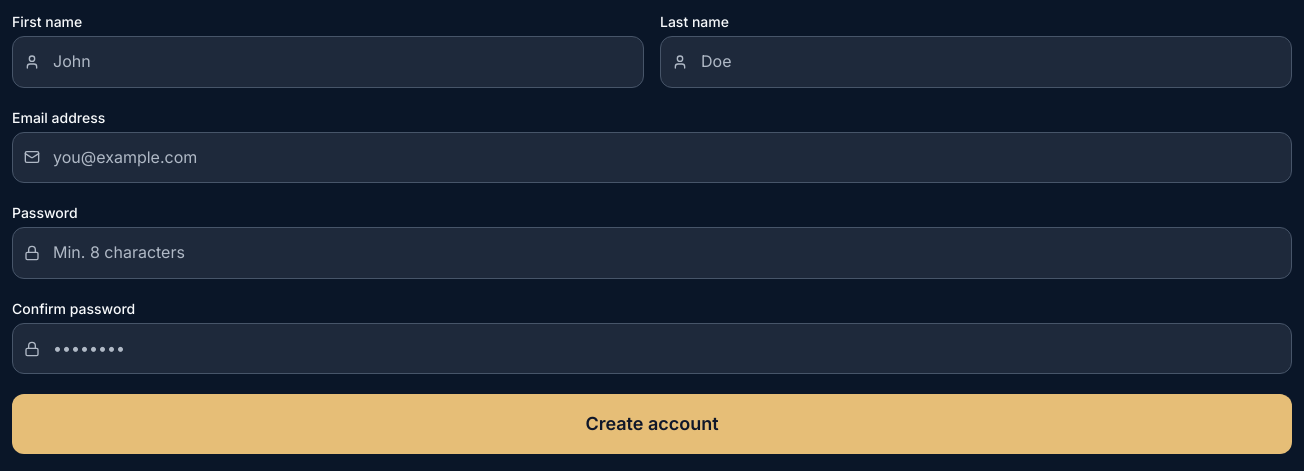
Test: RegisterForm › disables the submit button and shows spinner while submitting
This screenshot has width=1304, height=471.
Type "Kevin" into the field labelled "First name".
click(328, 62); type("Kevin")  # box [12,36,644,88]
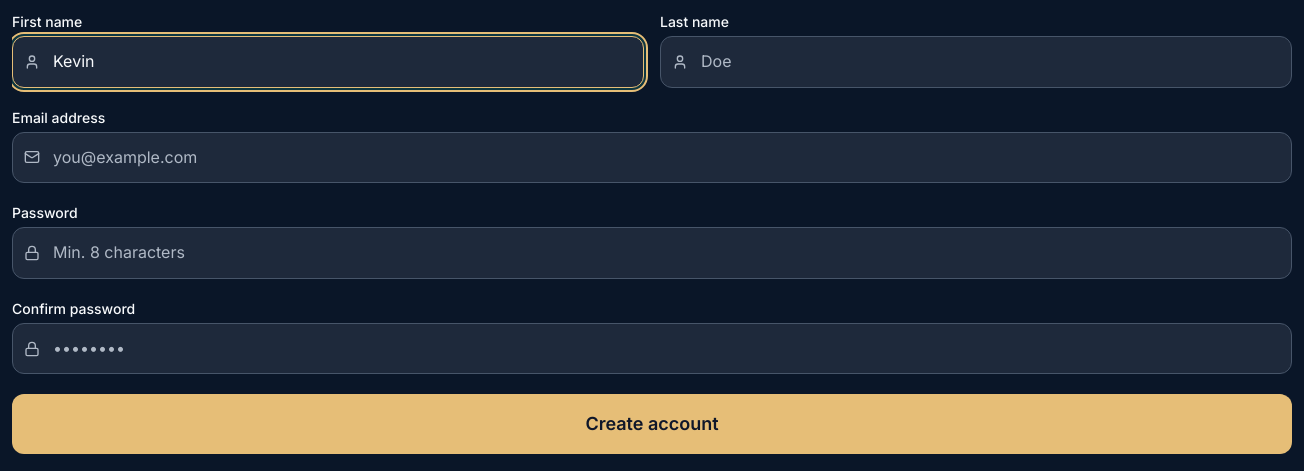
Type "Mahendra" into the field labelled "Last name".
click(976, 62); type("Mahendra")  # box [660,36,1292,88]
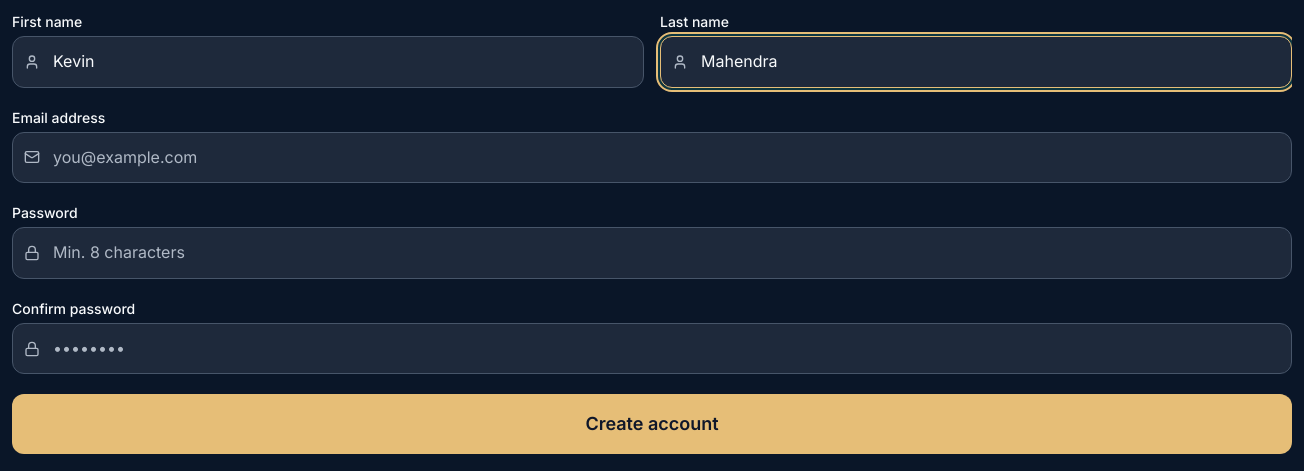
Type "kevin@example.com" into the field labelled "Email address".
click(652, 157); type("kevin@example.com")  # box [12,132,1292,183]
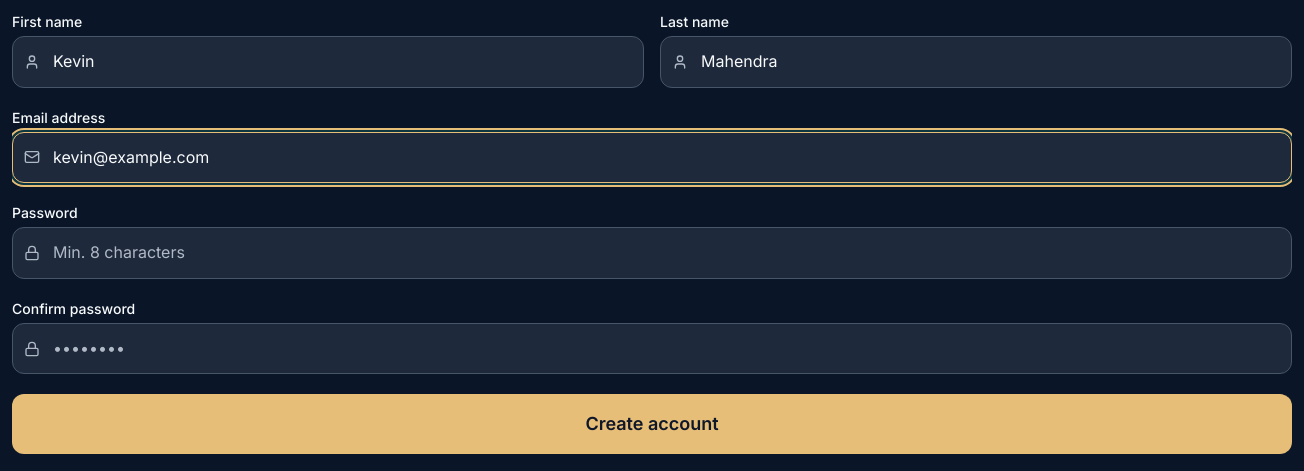
Type "StrongPass123!" into the password field labelled "Password".
click(652, 253); type("StrongPass123!")  # box [12,227,1292,279]
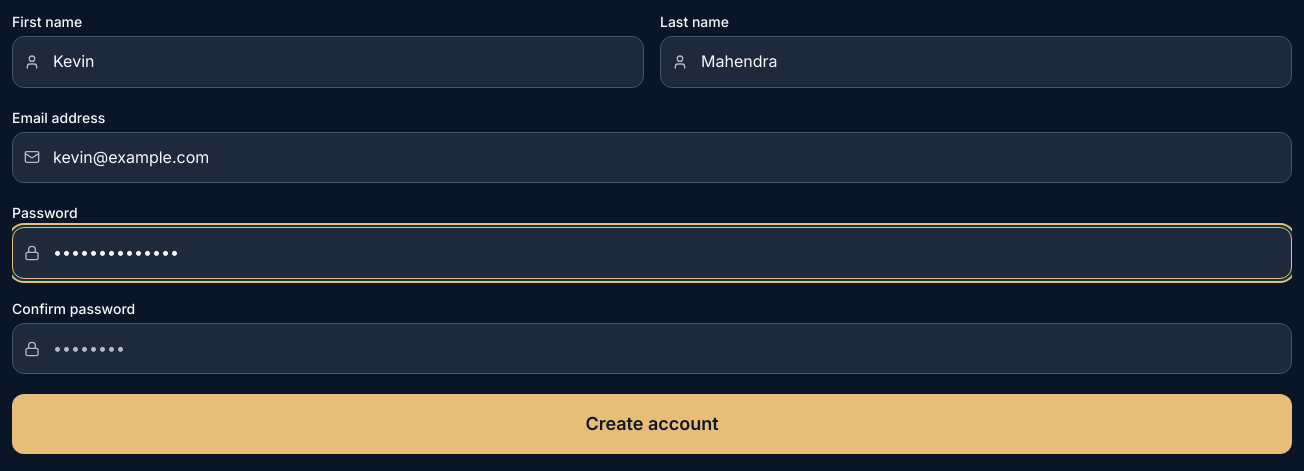
Type "StrongPass123!" into the password field labelled "Confirm password".
click(652, 349); type("StrongPass123!")  # box [12,323,1292,374]
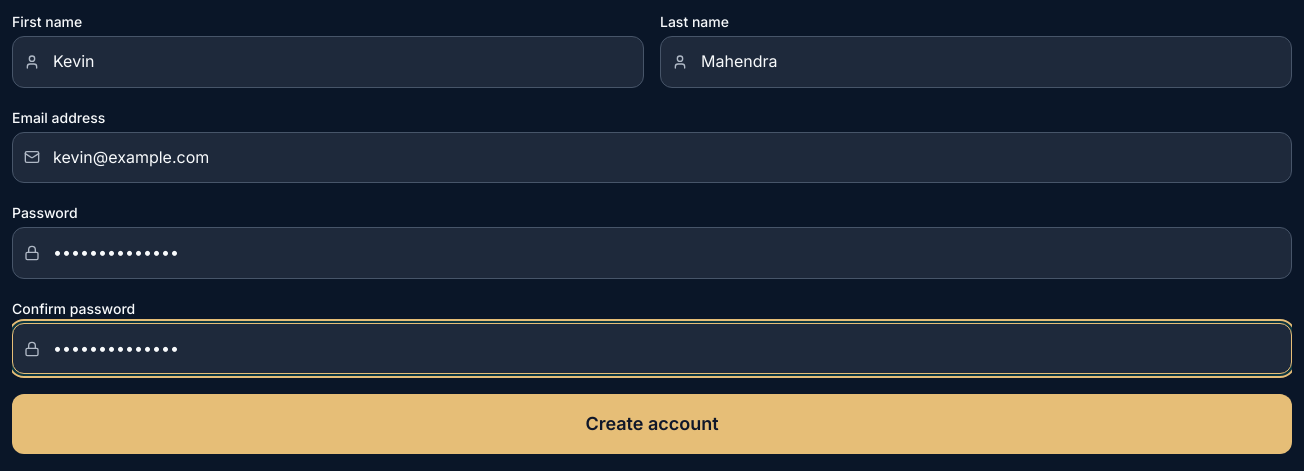
Click the button "Create account".
click(652, 424)  # box [12,394,1292,454]
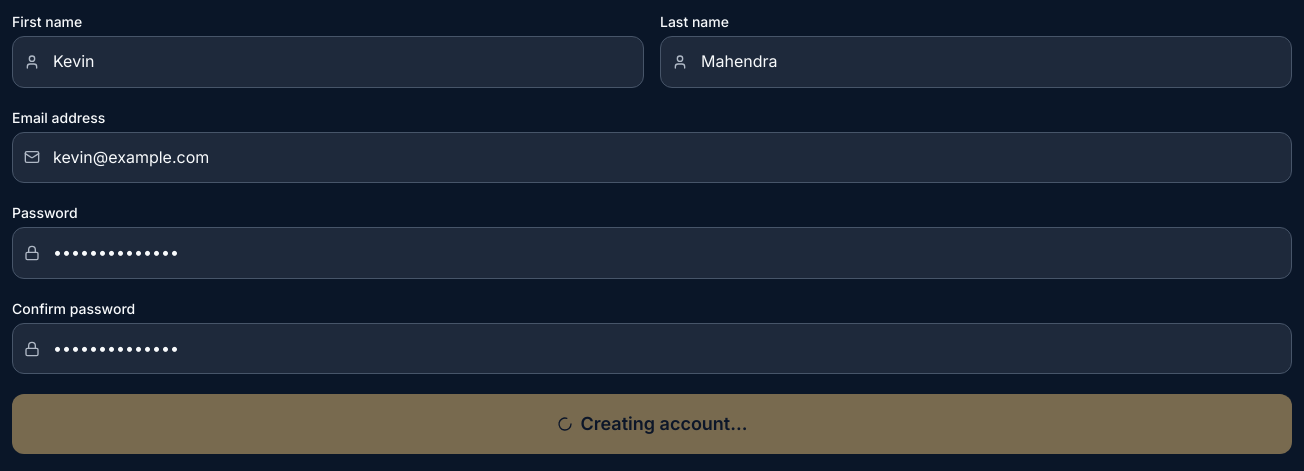
Expected: the button "Creating account..." is disabled, [12,394,1292,454]
